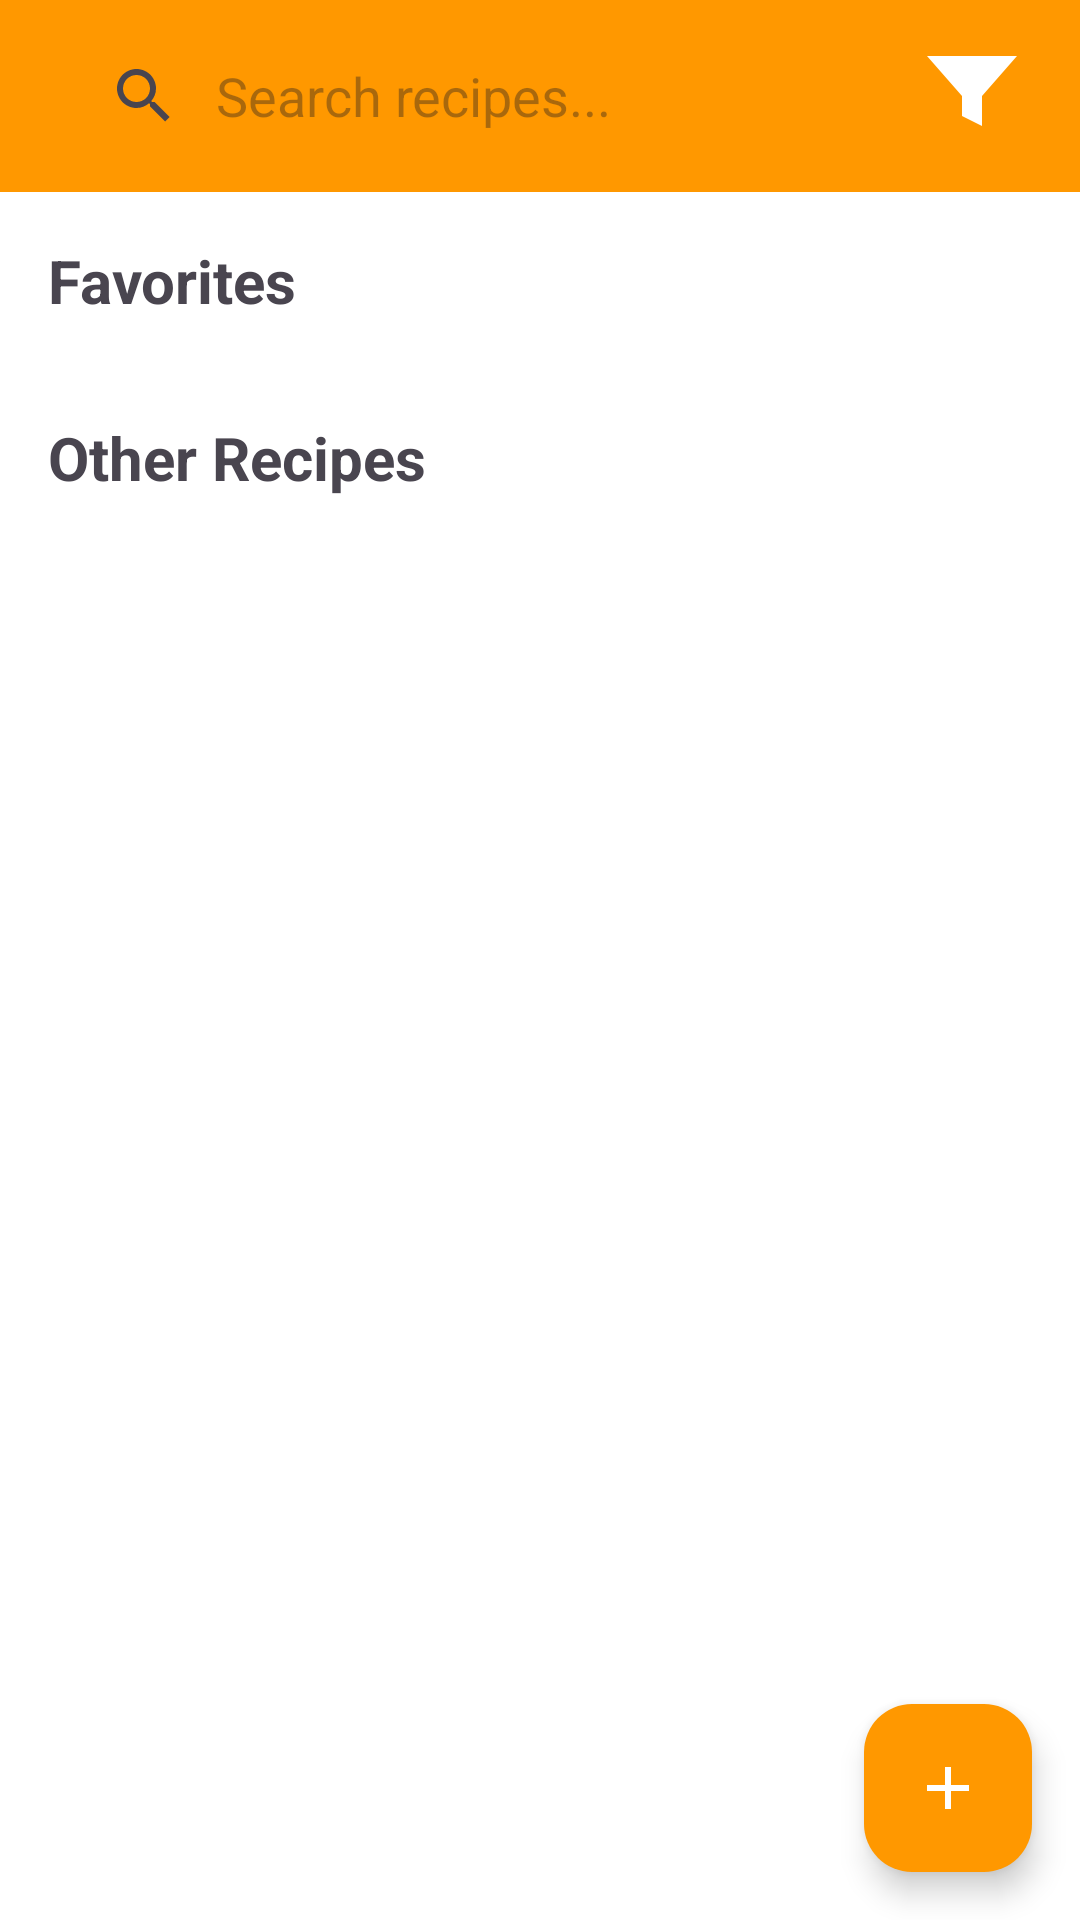

Icon bounding boxes for this 1080w x 1920h phone screenshot, format (x1, y1, x2, y2):
add: (864, 1704, 1032, 1872)
filter: (927, 56, 1017, 126)
